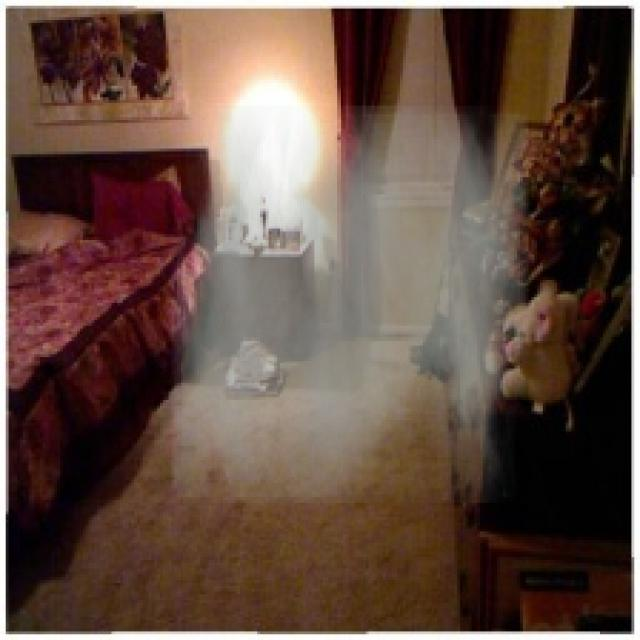smoke: (172, 106, 528, 503)
